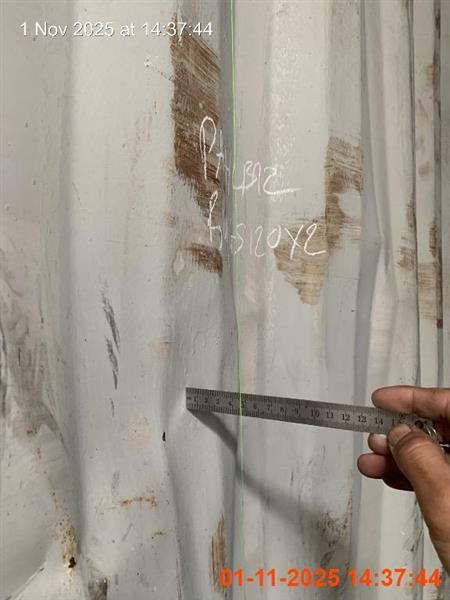crack: (356, 384, 449, 579)
